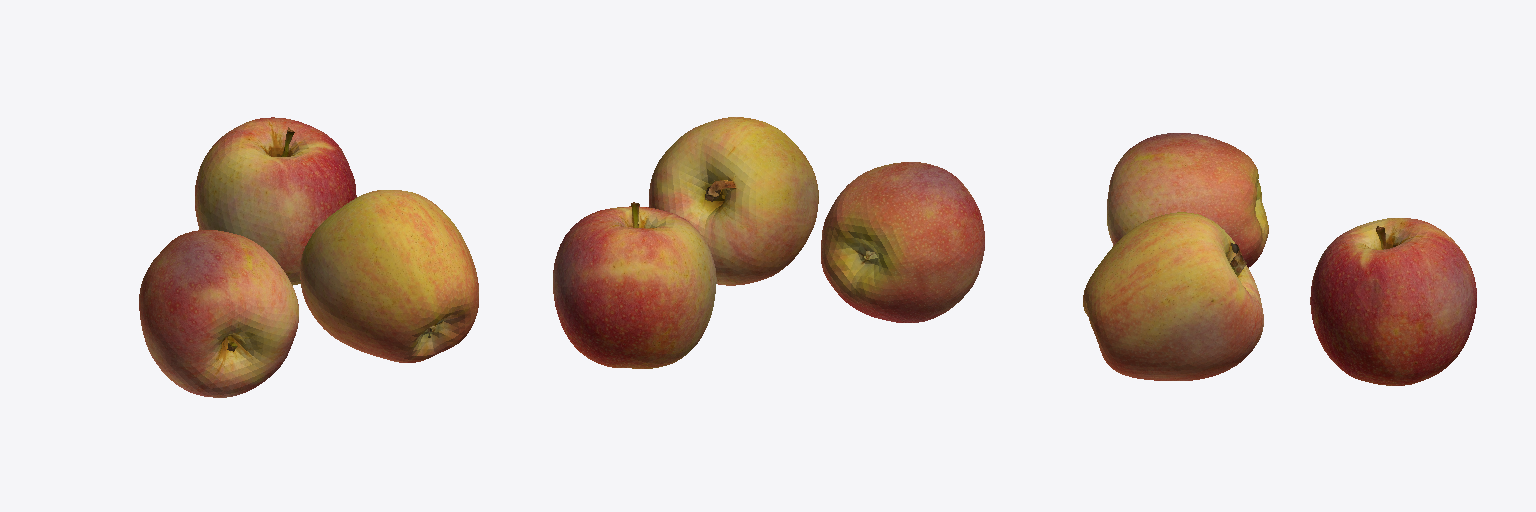
The picture shows the model from 3 angles: view 1: azimuth 30°, elevation 25°; view 2: azimuth 150°, elevation 25°; view 3: azimuth 270°, elevation 25°; orthographic projection.
Visible parts, largest first — view 1: Royal_Gala3_lowpoly, Royal_Gala2_lowpoly, Royal_Gala1_lowpoly; view 2: Royal_Gala1_lowpoly, Royal_Gala2_lowpoly, Royal_Gala3_lowpoly; view 3: Royal_Gala3_lowpoly, Royal_Gala1_lowpoly, Royal_Gala2_lowpoly.
Part boxes in pixels (bbox=[...]): Royal_Gala3_lowpoly: bbox=[300, 190, 478, 362]; Royal_Gala2_lowpoly: bbox=[139, 230, 298, 397]; Royal_Gala1_lowpoly: bbox=[195, 117, 356, 285]; Royal_Gala1_lowpoly: bbox=[553, 202, 716, 368]; Royal_Gala2_lowpoly: bbox=[821, 162, 984, 322]; Royal_Gala3_lowpoly: bbox=[649, 117, 818, 285]; Royal_Gala3_lowpoly: bbox=[1083, 212, 1263, 380]; Royal_Gala1_lowpoly: bbox=[1310, 218, 1476, 385]; Royal_Gala2_lowpoly: bbox=[1107, 133, 1268, 267].
Size of the model in its own units: 0.1355 by 0.0639 by 0.1484.
Materials: 3 (3 with a texture image).